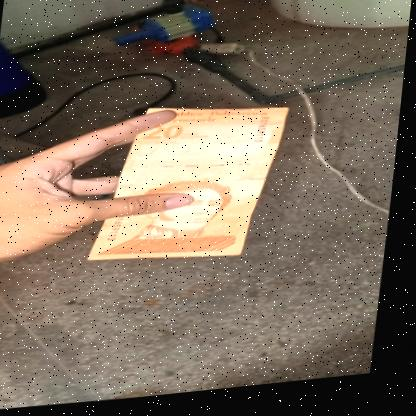twenty-front-vef: (91, 97, 293, 274)
